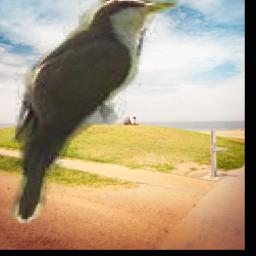Cuckoo: (7, 0, 177, 225)
